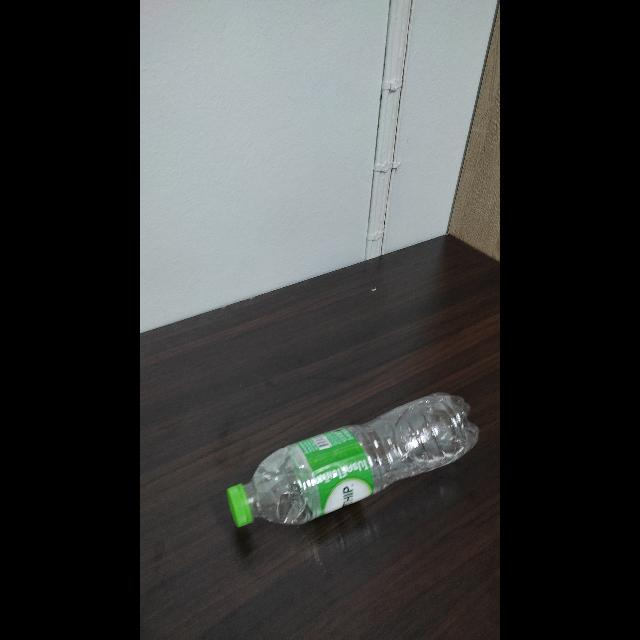plastic_bottle: (216, 381, 487, 551)
plastic_bottle_cap: (224, 484, 253, 528)
